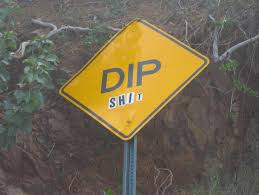dip: (63, 17, 212, 125)
